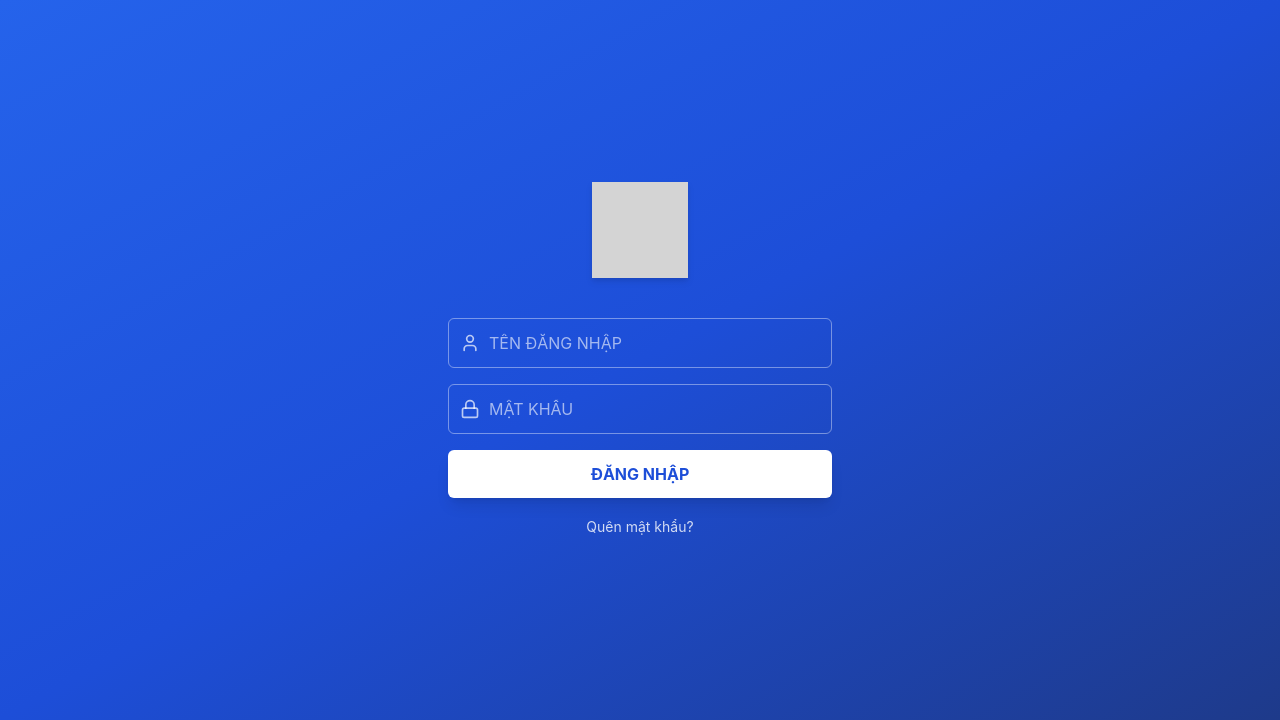
it: Auth Module › LoginPage › 3. Submit form trống -> lỗi "Vui lòng nhập đầy đủ..."
The image size is (1280, 720).
What coordinates should you click on to do the following:
click the button "ĐĂNG NHẬP"
I would click on:
 (640, 474)
Its box is [448, 450, 832, 498].
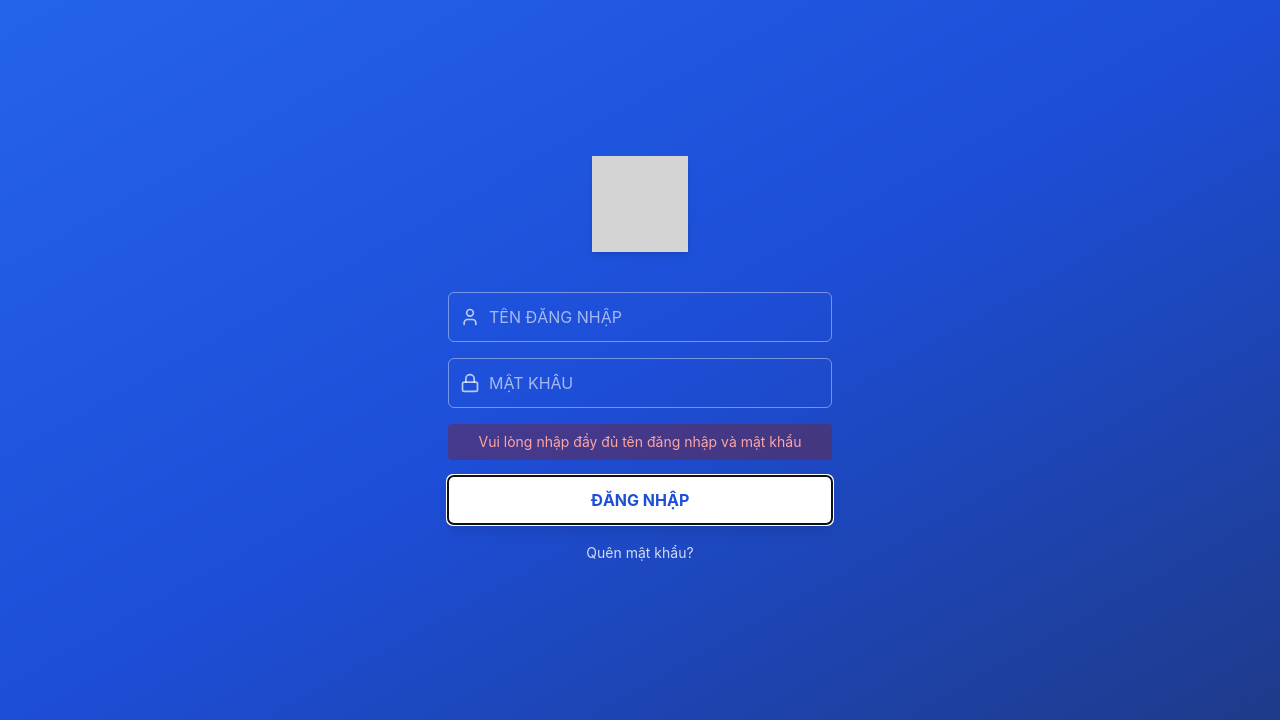
Result: the text "Vui lòng nhập đầy đủ tên đăng nhập và mật khẩu" is shown at [448, 424, 832, 460]
